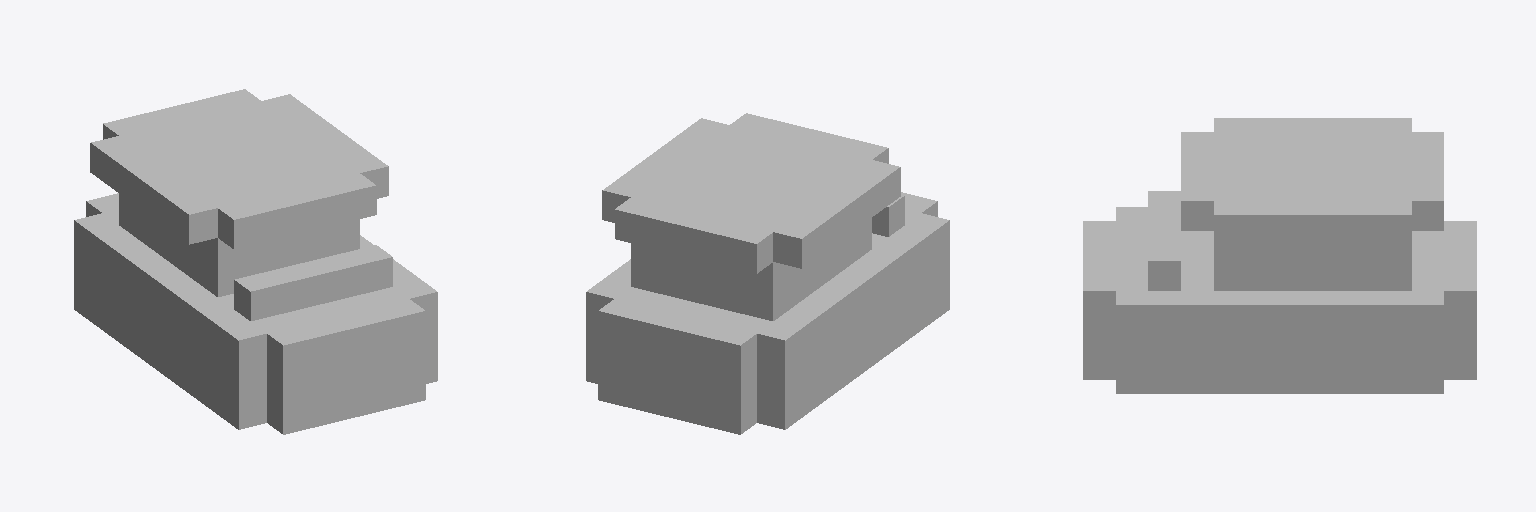
Rendered from farmerfeet.obj.
3 renders of one model, left to right at view 1: azimuth 30°, elevation 25°; view 2: azimuth 150°, elevation 25°; view 3: azimuth 270°, elevation 25°, orthographic.
Visible parts, largest first — view 1: SamAsFarmer; view 2: SamAsFarmer; view 3: SamAsFarmer.
Boxes of the visible parts, x1,y1,x2,y2 form: SamAsFarmer: [74, 89, 437, 434]; SamAsFarmer: [586, 113, 949, 434]; SamAsFarmer: [1083, 118, 1476, 393].
Size of the model in its own units: 7 by 6 by 12.